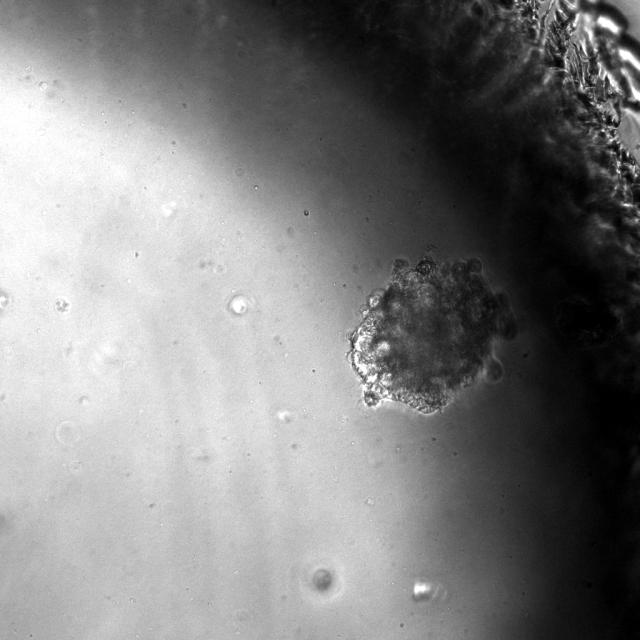organoid: (349, 253, 516, 413), (312, 568, 332, 591)
